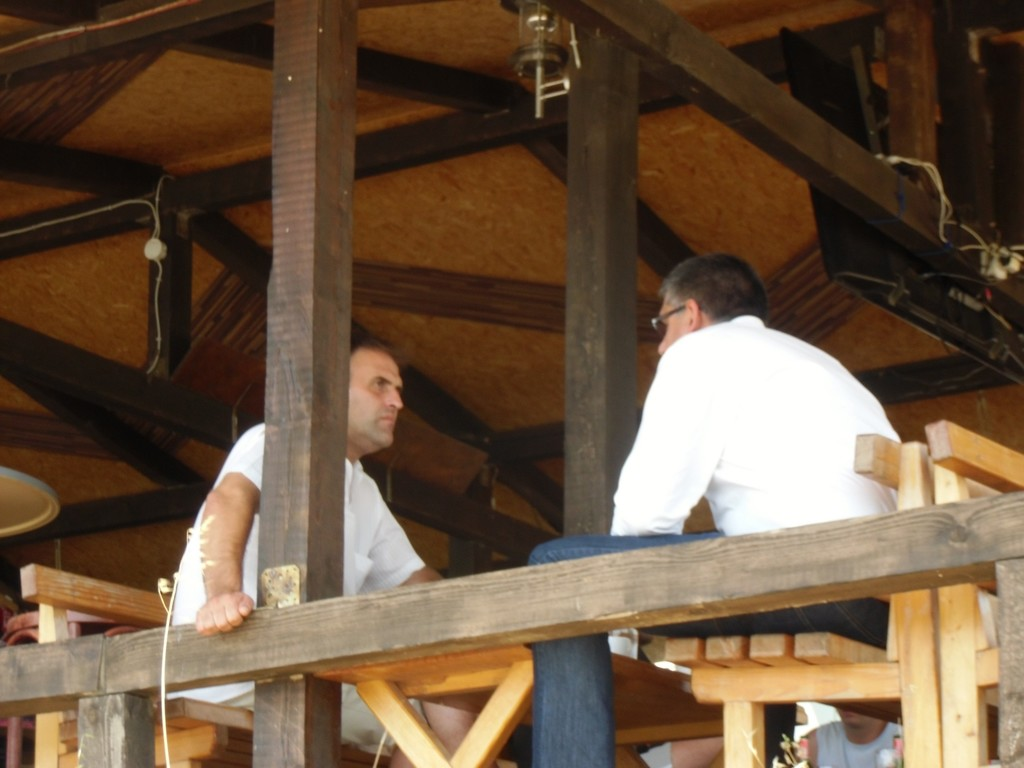Person: (526, 252, 904, 767), (171, 332, 484, 768)
